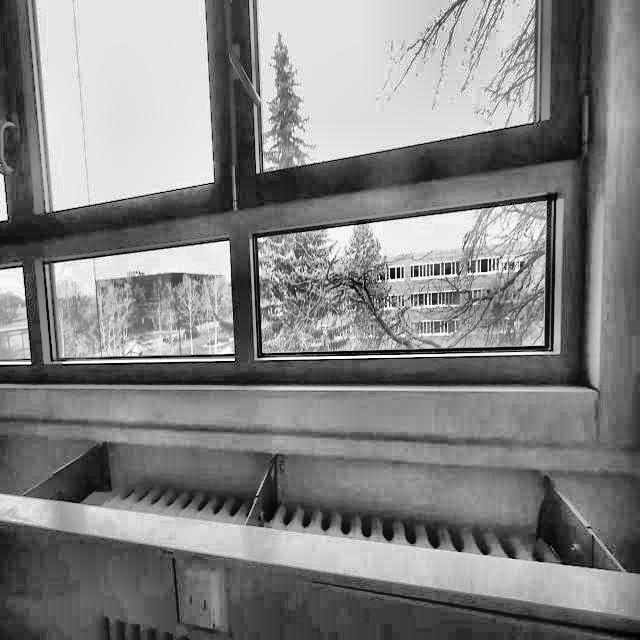ff: (120, 39, 275, 127)
